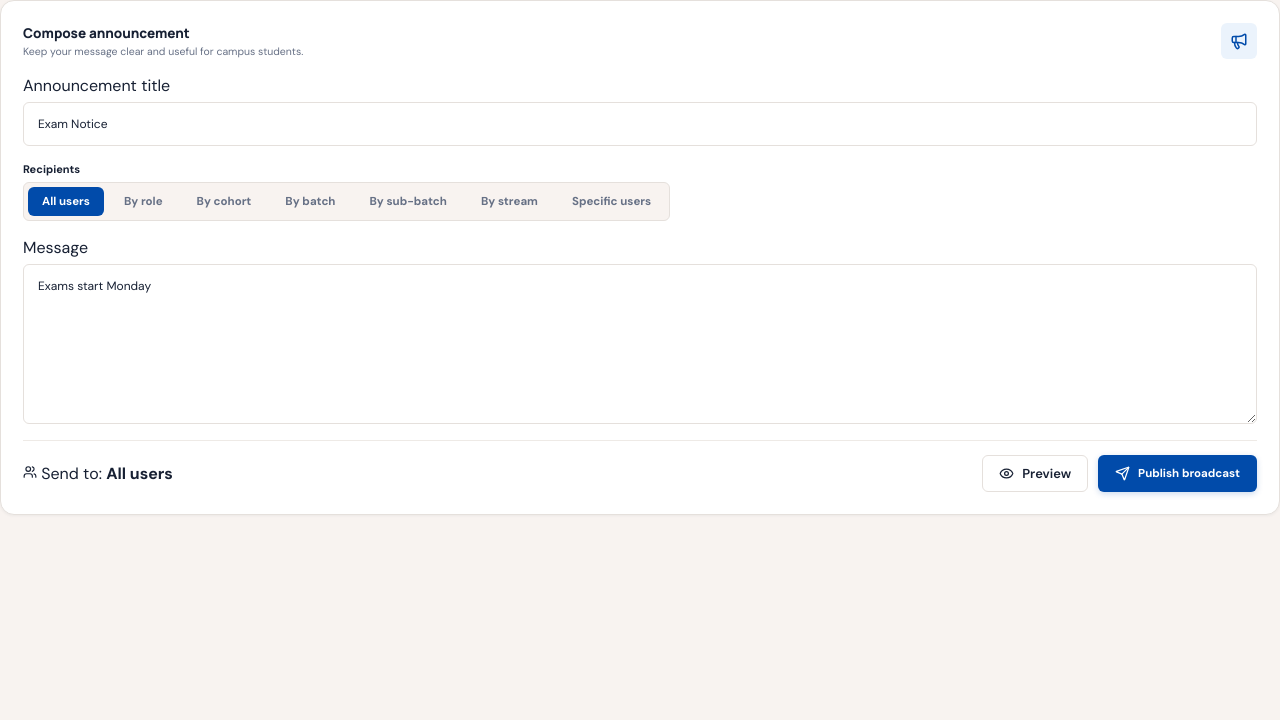
Test case: BroadcastForm — preview modal › renders the composed title, message and recipient summary, then closes
What coordinates should you click on to do the following:
click the button "Preview"
I would click on:
 (1035, 474)
Its box is 982,455 -> 1088,492.
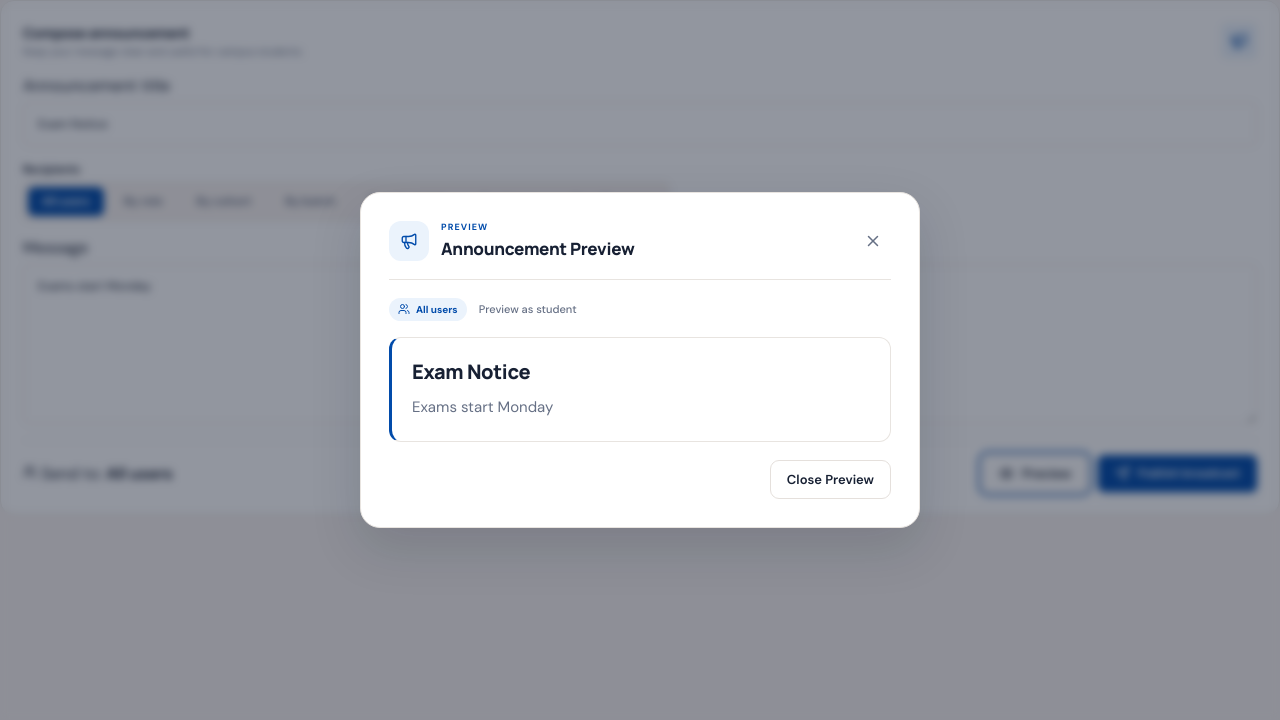
Expected: the heading "Exam Notice" is shown, 412,358 -> 530,385
Expected: the text "Exams start Monday" is shown, 412,397 -> 553,417
Expected: the text "All users" is shown, 389,298 -> 467,321
What coordinates should you click on to do the following:
click the button "Close Preview"
I would click on:
 (830, 480)
Its box is 770,460 -> 891,499.
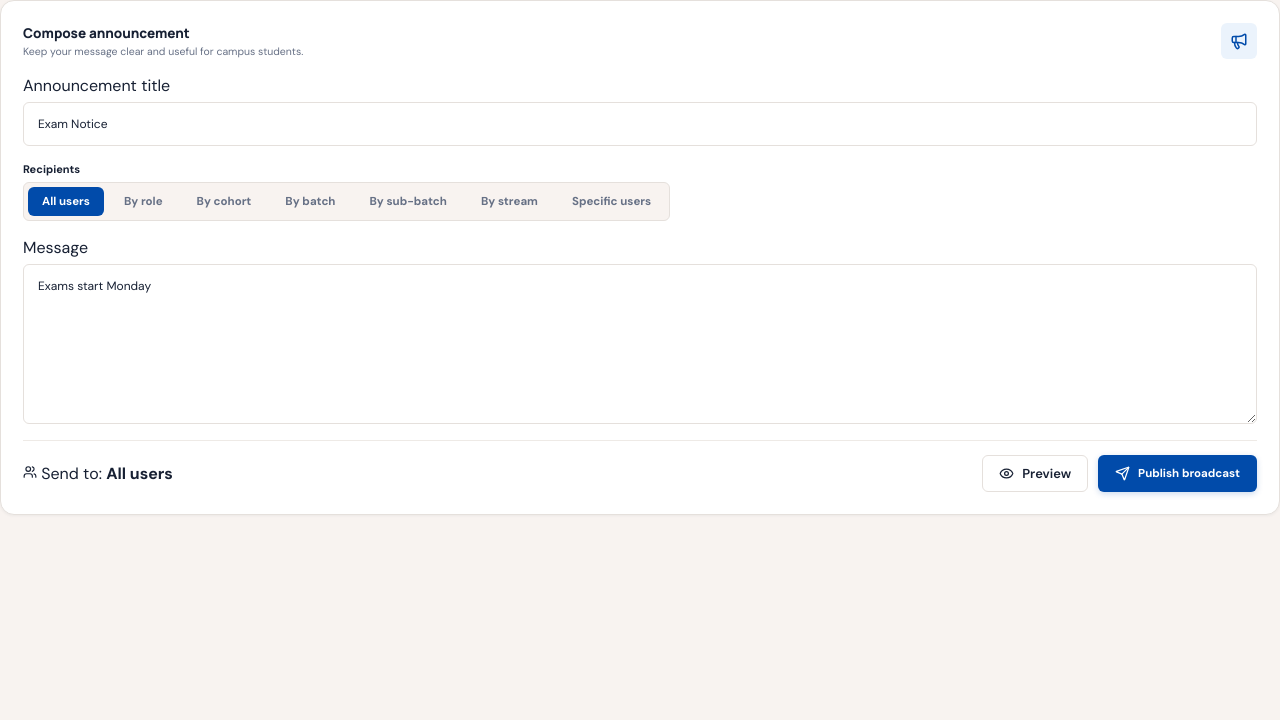
Expected: the heading "Announcement Preview" is gone
